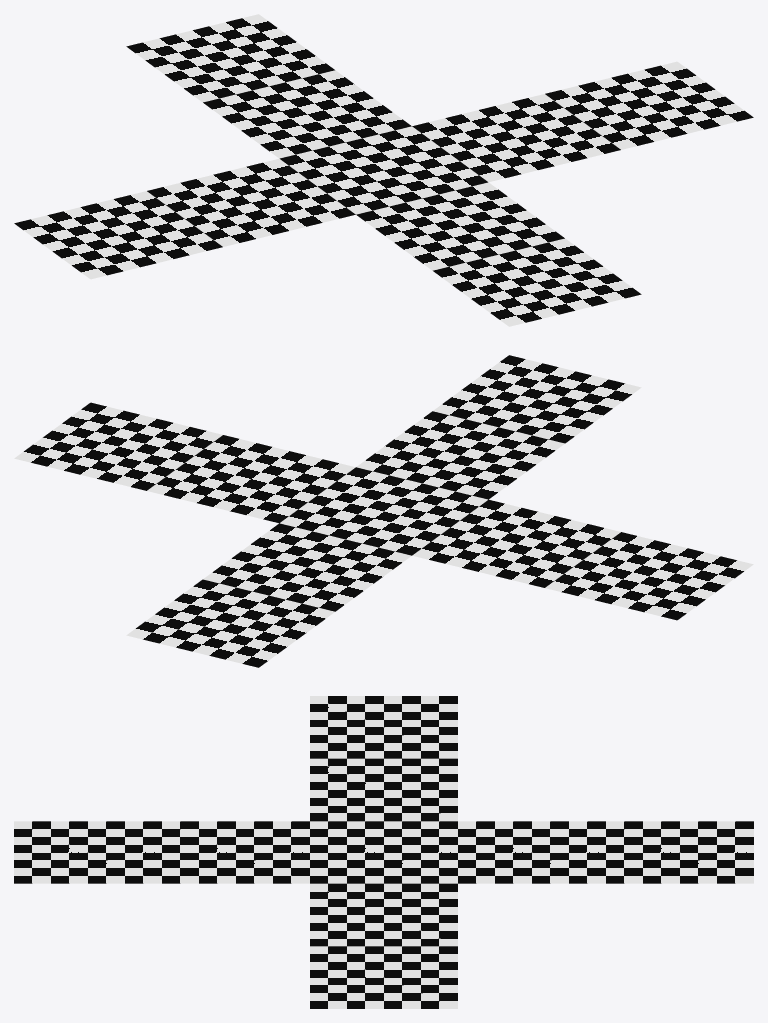
The model's file is PathGod.gltf.
3 renders of one model, top to bottom at view 1: azimuth 30°, elevation 25°; view 2: azimuth 150°, elevation 25°; view 3: azimuth 270°, elevation 25°, orthographic. The views are drawn at different scales.
Parts seen in each view (by area): view 1: GodEast, GodWest, GodNorth, GodSouth, GodFourJunction; view 2: GodEast, GodWest, GodNorth, GodSouth, GodFourJunction; view 3: GodNorth, GodSouth, GodEast, GodWest, GodFourJunction.
Boxes of the visible parts, x1,y1,x2,y2 form: GodEast: (14,158,355,279); GodWest: (412,61,753,182); GodNorth: (356,182,641,326); GodSouth: (126,14,411,158); GodFourJunction: (280,126,487,214); GodEast: (412,499,753,620); GodWest: (14,402,355,523); GodNorth: (356,355,641,499); GodSouth: (126,523,411,667); GodFourJunction: (280,467,487,555); GodNorth: (14,821,309,883); GodSouth: (458,821,753,883); GodEast: (310,696,457,821); GodWest: (310,883,457,1008); GodFourJunction: (310,821,457,883).
Bounding box in the file's own units: 5 × 2.22e-16 × 5.
Materials: 1 (1 with a texture image).
